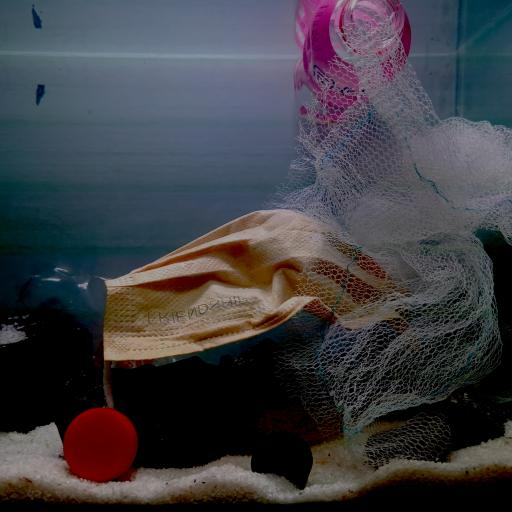bottle_cap: (62, 407, 136, 482)
mask: (100, 208, 417, 356)
net: (283, 9, 512, 464)
plastic_bottle: (283, 0, 427, 114)
